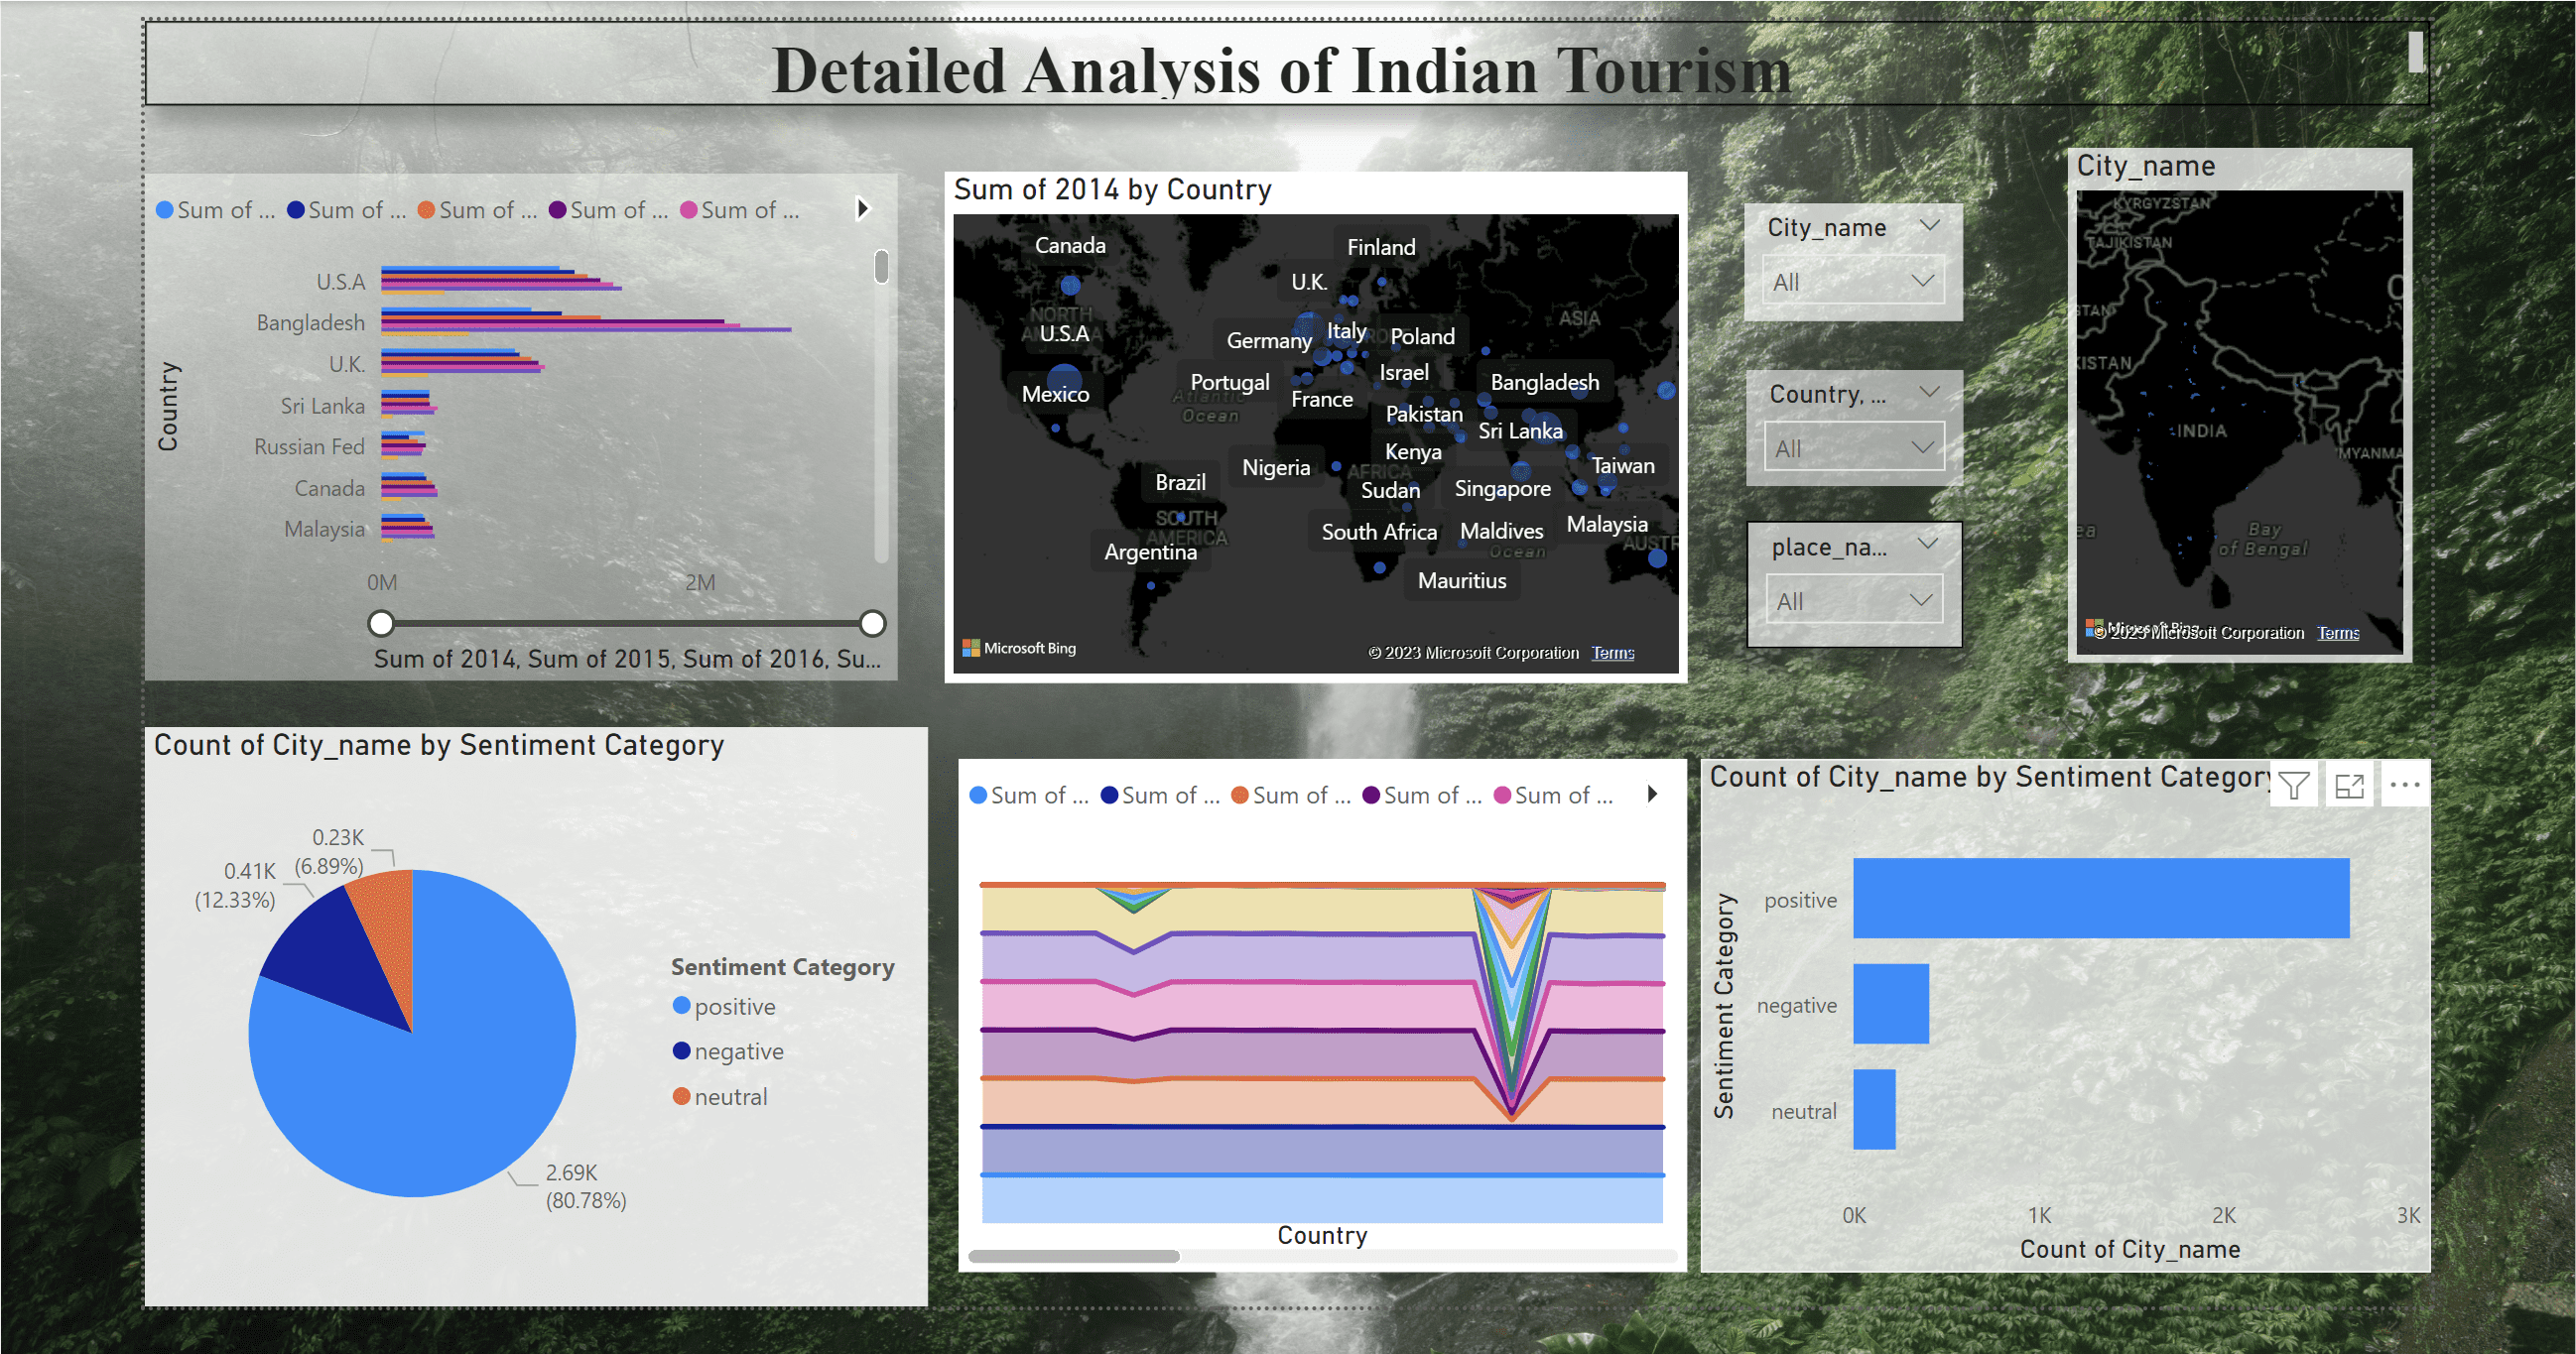

The page's visual inventory and layout, read from the dashboard file:
{"tool":"powerbi","page":{"name":"Indian Tourism Detailed Analysis ","canvas":[1280,720],"ordinal":0},"visuals":[{"type":"pieChart","fields":{"Category":["reviews1.Sentiment Category"],"Y":["CountNonNull(reviews1.City_name)"]},"box":[0,395.7,438.6,324.3],"z":0},{"type":"clusteredBarChart","fields":{"Y":["CountNonNull(reviews1.City_name)"],"Category":["reviews1.Sentiment Category"]},"box":[871.6,413.6,408,287.5],"z":1000},{"type":"filledMap","fields":{"Category":["reviews1.City_name"]},"box":[1076.1,71.6,193.2,288.6],"z":2000},{"type":"clusteredBarChart","fields":{"Category":["Table1.Country"],"Y":["Sum(Table1.2014)","Sum(Table1.2015)","Sum(Table1.2016)","Sum(Table1.2017)","Sum(Table1.2018)","Sum(Table1.2019)","Sum(Table1.2020)"]},"box":[0,85.2,421.6,284.1],"z":3000},{"type":"map","fields":{"Category":["Table1.Country"],"Size":["Sum(Table1.2014)"]},"box":[447.7,84.1,415.9,286.4],"z":4000},{"type":"slicer","fields":{"Values":["Table1.Country","Table1.2014","Table1.2015"]},"box":[896.6,195.5,121.6,64.8],"z":5000},{"type":"textbox","box":[0,0,1279.5,47.7],"z":6000},{"type":"slicer","fields":{"Values":["reviews1.City_name"]},"box":[895.5,102.3,122.7,65.9],"z":7000},{"type":"stackedAreaChart","fields":{"Y":["Sum(Table1.2014 AIR)","Sum(Table1.2015 AIR)","Sum(Table1.2016 AIR)","Sum(Table1.2017 AIR)","Sum(Table1.2018 AIR)","Sum(Table1.2019 AIR)","Sum(Table1.2020 AIR)","Sum(Table1.2014 LAND)","Sum(Table1.2015 LAND)","Sum(Table1.2016 LAND)","Sum(Table1.2017 LAND)","Sum(Table1.2018 LAND)"],"Category":["Table1.Country"]},"box":[455.7,413.6,408,287.5],"z":8000},{"type":"slicer","fields":{"Values":["reviews1.place_name","reviews1.Sentiment Category"]},"box":[896.6,279.5,121.6,71.6],"z":8001}]}

Visuals, with their boxes in screenshot pixels (x1, y1, x2, y2):
pieChart - reviews1.Sentiment Category x CountNonNull(reviews1.City_name): 134:721:920:1302
clusteredBarChart - CountNonNull(reviews1.City_name) x reviews1.Sentiment Category: 1695:754:2425:1268
filledMap - reviews1.City_name: 2061:142:2406:658
clusteredBarChart - Table1.Country x Sum(Table1.2014): 134:166:889:675
map - Table1.Country x Sum(Table1.2014): 936:164:1680:677
slicer - Table1.Country x Table1.2014: 1739:363:1957:479
textbox: 134:14:2425:99
slicer - reviews1.City_name: 1738:196:1957:314
stackedAreaChart - Sum(Table1.2014 AIR) x Sum(Table1.2015 AIR): 950:754:1680:1268
slicer - reviews1.place_name x reviews1.Sentiment Category: 1739:514:1957:642
